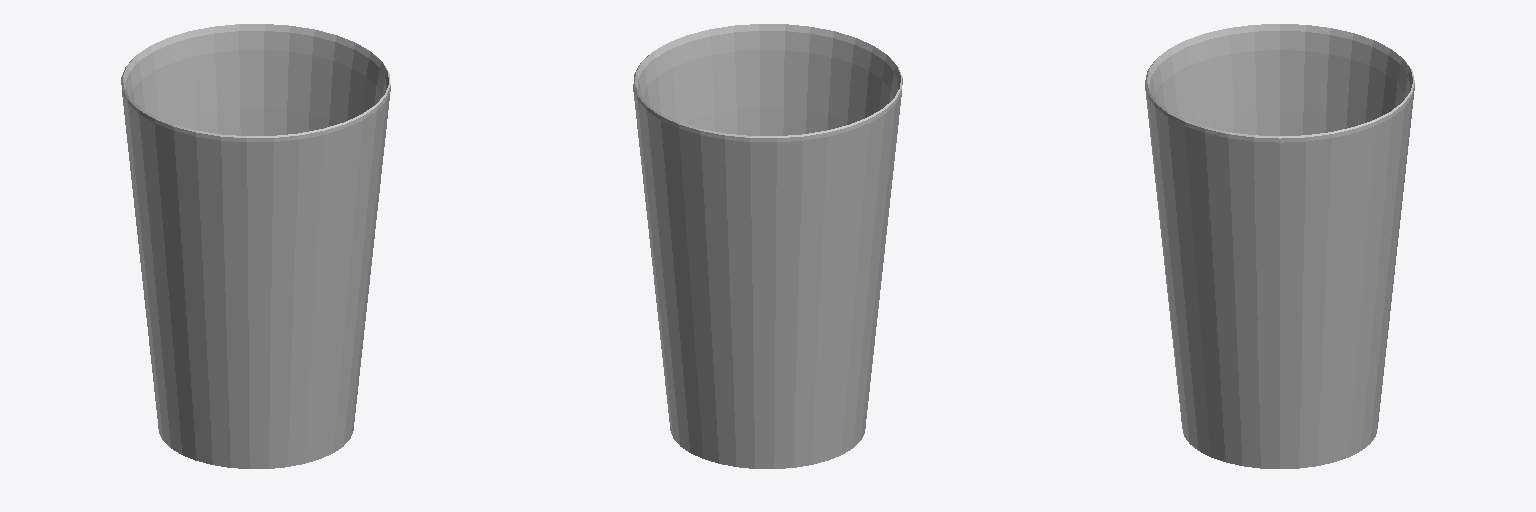
File: stakan.obj
The picture shows the model from 3 angles: view 1: azimuth 30°, elevation 25°; view 2: azimuth 150°, elevation 25°; view 3: azimuth 270°, elevation 25°; orthographic projection.
Visible parts, largest first — view 1: Circle; view 2: Circle; view 3: Circle.
Boxes of the visible parts, x1=… form: Circle: x1=121, y1=24, x2=390, y2=468; Circle: x1=633, y1=24, x2=902, y2=468; Circle: x1=1145, y1=24, x2=1414, y2=468.
Bounding box in the file's own units: 2.82 × 4.05 × 2.82.